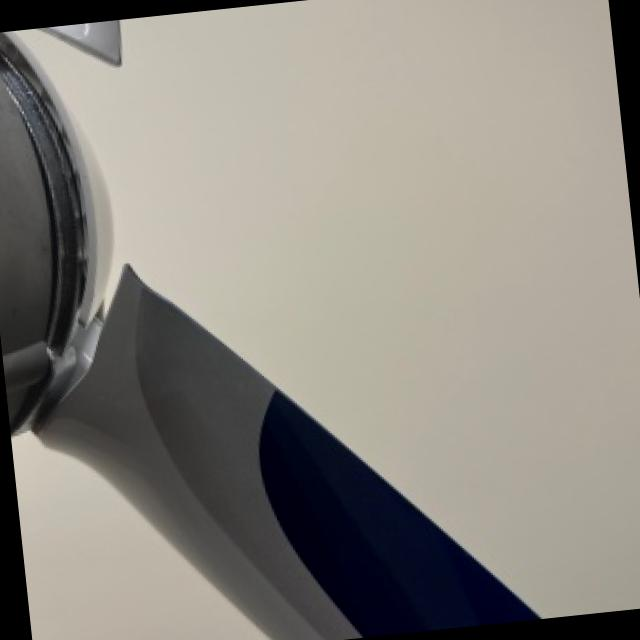healthy: (0, 17, 540, 640)
